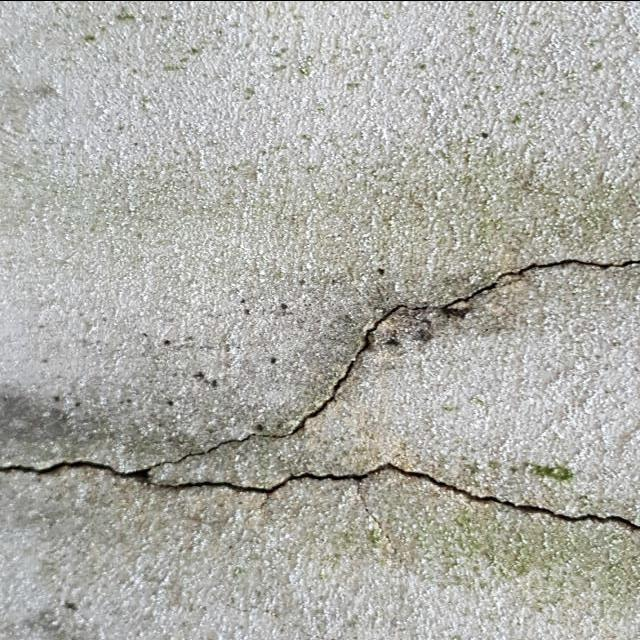SurfaceCrack: (0, 214, 639, 560)
